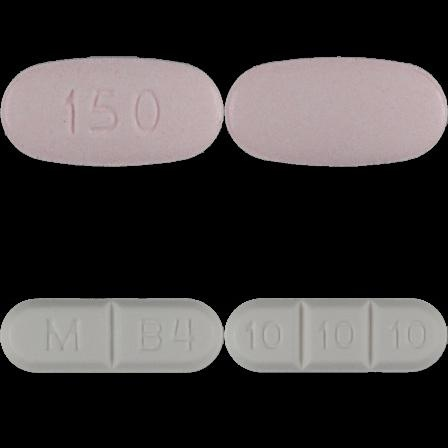21695-193: (0, 0, 224, 224)
